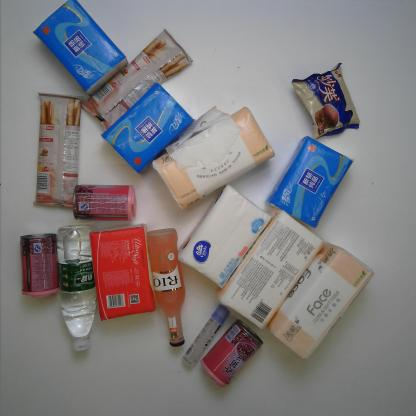Alcohol: (146, 228, 194, 348)
Canned Food: (194, 318, 270, 388), (71, 178, 143, 224), (14, 235, 62, 302)
Dessert: (79, 28, 198, 132), (28, 90, 86, 212), (286, 59, 364, 141)
Drink: (48, 221, 101, 354)
Stationery: (177, 301, 231, 369)
Tissue: (215, 202, 325, 337), (150, 104, 278, 211), (267, 238, 374, 361), (176, 183, 275, 289), (98, 79, 197, 176), (32, 1, 128, 96), (265, 132, 356, 229), (90, 227, 160, 323)
